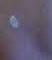plaque psoriasis: (8, 14, 22, 31)
